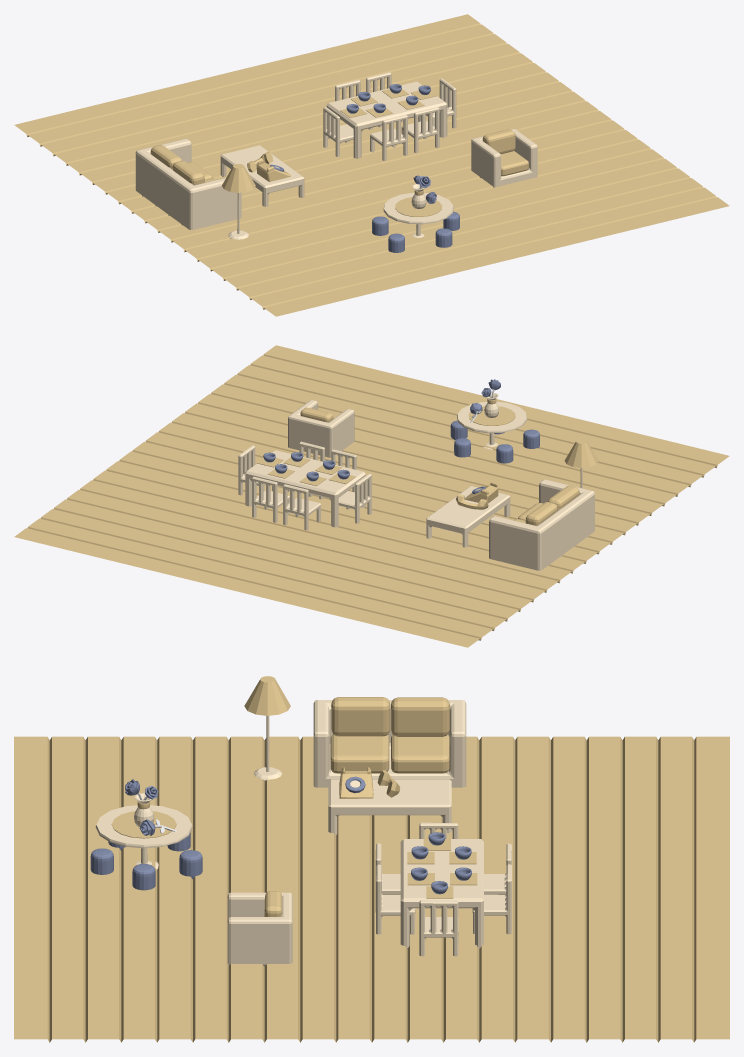
The picture shows the model from 3 angles, top to bottom: view 1: azimuth 30°, elevation 25°; view 2: azimuth 150°, elevation 25°; view 3: azimuth 270°, elevation 25°; orthographic projection. The views are drawn at different scales.
Parts seen in each view (by area): view 1: Plane.029, Cube.042, table.004, Cube.047, SmallTable, table.008, Chair.017, Chair.016, Chair.013, Cylinder.040, Cube.049, Chair.002 (+2 smaller); view 2: Plane.029, Cube.042, table.004, Cube.047, SmallTable, table.008, Chair.001, Chair.018, Chair.013, Cylinder.040, table.009, Chair.002; view 3: Plane.029, Cube.047, table.004, SmallTable, Cube.042, Cube.046, Cube.043, Cube.044, Cube.045, table.008, Chair.002, Cylinder.040 (+7 smaller).
Part boxes in pixels (bbox=[...]): Plane.029: bbox=[14, 14, 729, 316]; Cube.042: bbox=[135, 139, 241, 229]; table.004: bbox=[326, 81, 447, 158]; Cube.047: bbox=[471, 129, 537, 187]; SmallTable: bbox=[220, 145, 304, 206]; table.008: bbox=[383, 192, 453, 237]; Chair.017: bbox=[370, 115, 407, 160]; Chair.016: bbox=[401, 107, 439, 152]; Chair.013: bbox=[323, 107, 353, 156]; Cylinder.040: bbox=[222, 164, 255, 192]; Cube.049: bbox=[482, 129, 515, 154]; Chair.002: bbox=[418, 78, 456, 128]; Plane.029: bbox=[14, 345, 729, 647]; Cube.042: bbox=[489, 479, 594, 570]; table.004: bbox=[245, 450, 365, 527]; Cube.047: bbox=[288, 400, 354, 457]; SmallTable: bbox=[426, 486, 510, 547]; table.008: bbox=[457, 401, 527, 449]; Chair.001: bbox=[283, 484, 320, 530]; Chair.018: bbox=[252, 476, 289, 522]; Chair.013: bbox=[338, 473, 371, 523]; Cylinder.040: bbox=[564, 439, 598, 467]; table.009: bbox=[468, 406, 515, 425]; Chair.002: bbox=[238, 445, 272, 495]; Plane.029: bbox=[14, 736, 729, 1042]; Cube.047: bbox=[227, 892, 292, 966]; table.004: bbox=[400, 839, 483, 948]; SmallTable: bbox=[328, 779, 451, 835]; Cube.042: bbox=[313, 700, 466, 787]; Cube.046: bbox=[331, 697, 390, 736]; Cube.043: bbox=[391, 697, 449, 736]; Cube.044: bbox=[391, 734, 449, 773]; Cube.045: bbox=[330, 734, 389, 773]; table.008: bbox=[95, 805, 192, 869]; Chair.002: bbox=[419, 900, 458, 956]; Cylinder.040: bbox=[244, 676, 290, 715].
Size of the model in its own units: 4000 by 640 by 4000.
